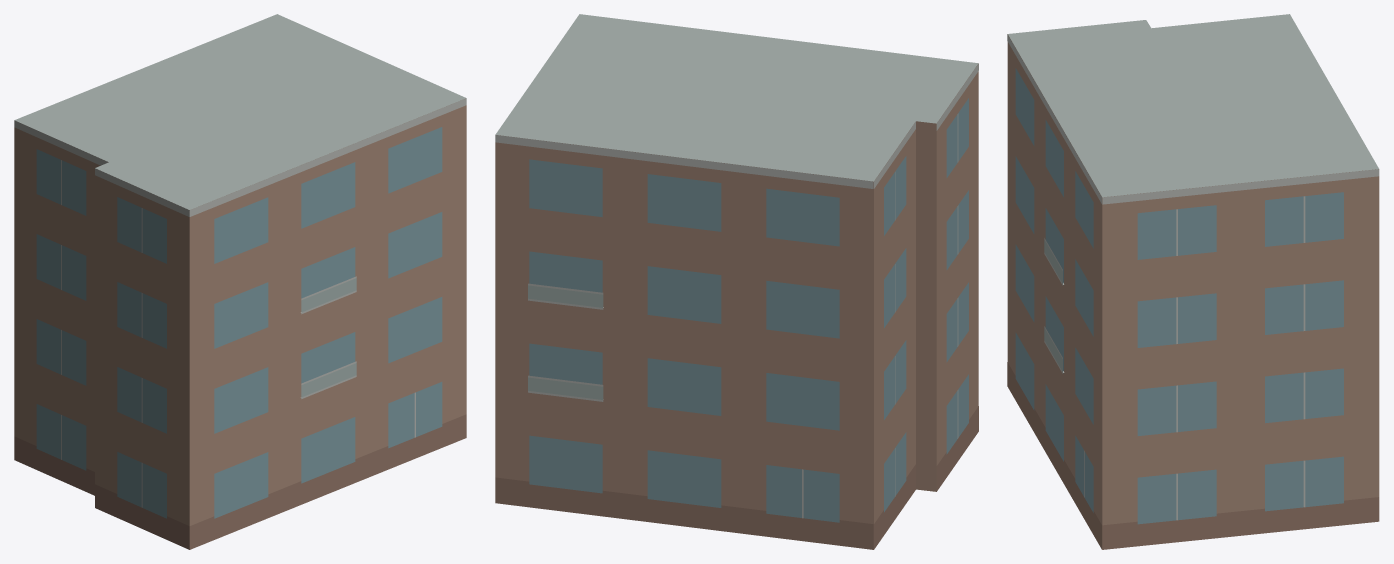
Rendered from survey-upis-32717045.glb.
3 renders of one model, left to right at view 1: azimuth 30°, elevation 25°; view 2: azimuth 150°, elevation 25°; view 3: azimuth 270°, elevation 25°, orthographic. The views are drawn at different scales.
Visible parts, largest first — view 1: survey-upis-32717045.tmp; view 2: survey-upis-32717045.tmp; view 3: survey-upis-32717045.tmp.
Part boxes in pixels (x1=…): survey-upis-32717045.tmp: x1=14, y1=14, x2=466, y2=549; survey-upis-32717045.tmp: x1=495, y1=14, x2=978, y2=549; survey-upis-32717045.tmp: x1=1007, y1=14, x2=1379, y2=549.
Bounding box in the file's own units: 13.17 × 11.8 × 11.28.
